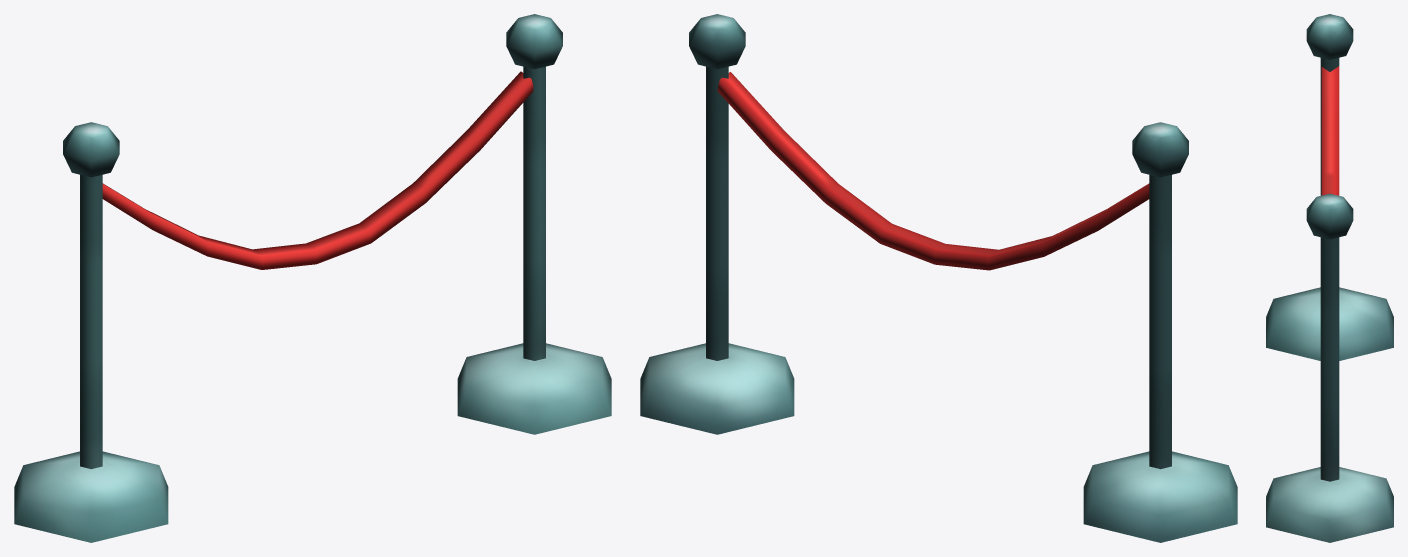
Rendered from Obstacles_FenceCurved.fbx.
3 renders of one model, left to right at view 1: azimuth 30°, elevation 25°; view 2: azimuth 150°, elevation 25°; view 3: azimuth 270°, elevation 25°, orthographic. The views are drawn at different scales.
Visible parts, largest first — view 1: Obstacle_FenceCurved; view 2: Obstacle_FenceCurved; view 3: Obstacle_FenceCurved.
Boxes of the visible parts, x1=… form: Obstacle_FenceCurved: x1=14, y1=14, x2=611, y2=542; Obstacle_FenceCurved: x1=640, y1=14, x2=1237, y2=542; Obstacle_FenceCurved: x1=1266, y1=14, x2=1393, y2=542.
Bounding box in the file's own units: 1320 × 793 × 294.
